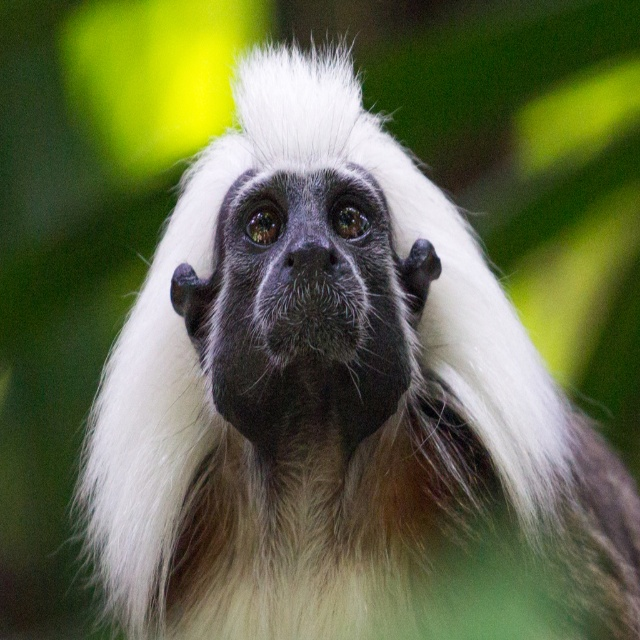Monkey: (34, 42, 640, 640)
